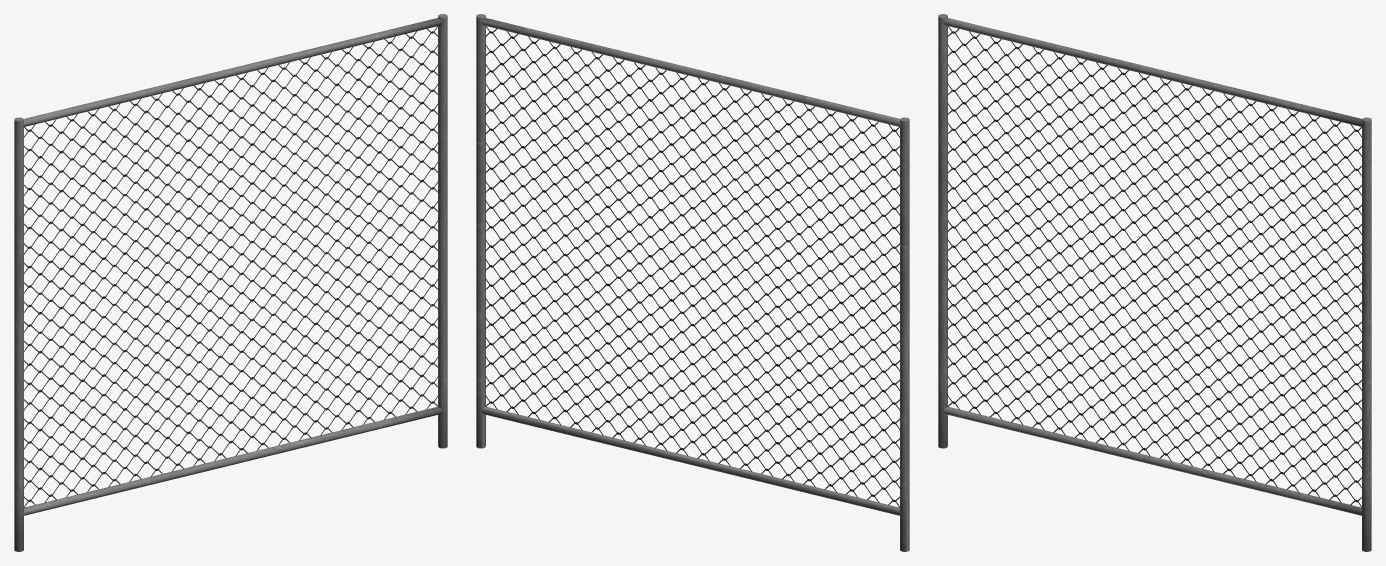
Rendered from fence_site_chainlink_sml-B.fbx.
3 renders of one model, left to right at view 1: azimuth 30°, elevation 25°; view 2: azimuth 150°, elevation 25°; view 3: azimuth 330°, elevation 25°, orthographic.
Visible parts, largest first — view 1: fence_site_chainlink_sml-B; view 2: fence_site_chainlink_sml-B; view 3: fence_site_chainlink_sml-B.
Part boxes in pixels (x1,y1,x2,y2): fence_site_chainlink_sml-B: (14, 14, 447, 551); fence_site_chainlink_sml-B: (476, 14, 909, 551); fence_site_chainlink_sml-B: (938, 14, 1371, 551).
Size of the model in its own units: 2.05 by 1.95 by 0.0408.
